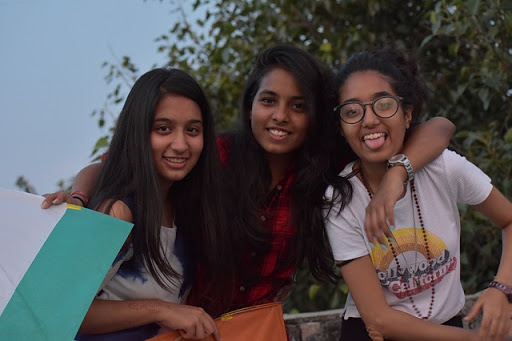bare: (340, 116, 406, 160), (249, 112, 308, 154), (147, 138, 203, 179)
